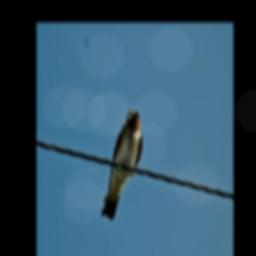Swallow: (98, 106, 142, 220)
